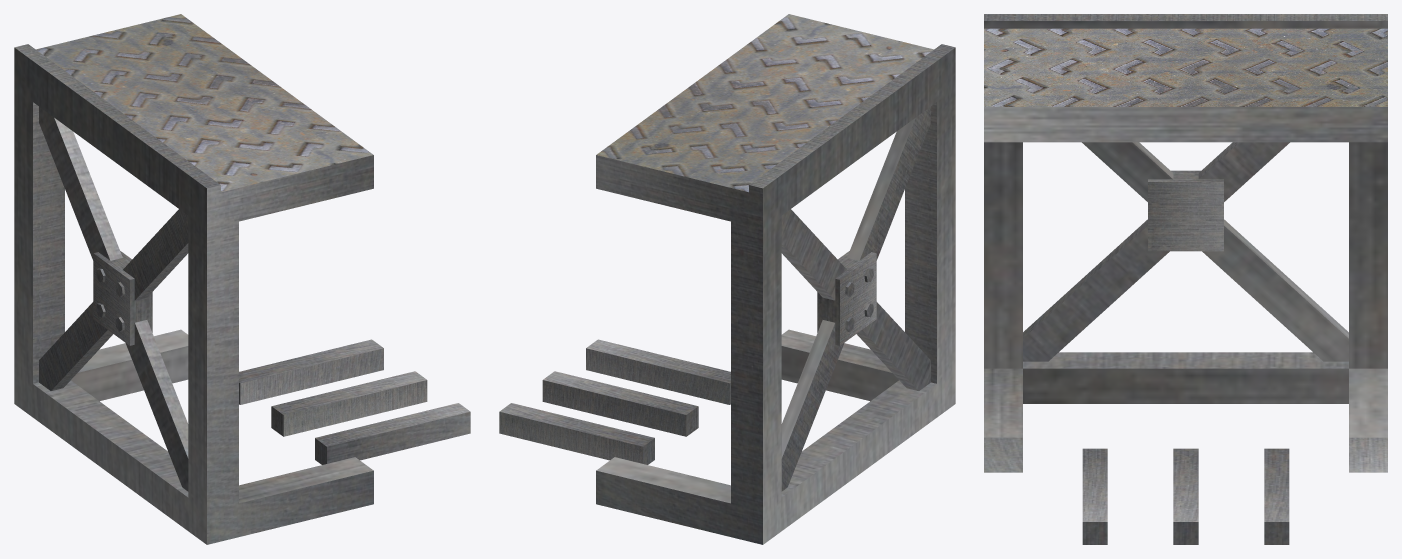
File: PLatform.glb
3 views of the same model, side by side, from view 1: azimuth 30°, elevation 25°; view 2: azimuth 150°, elevation 25°; view 3: azimuth 270°, elevation 25° (orthographic). The views are drawn at different scales.
Parts seen in each view (by area): view 1: Cube; view 2: Cube; view 3: Cube.
Boxes of the visible parts, x1,y1,x2,y2 form: Cube: [14, 14, 470, 544]; Cube: [499, 14, 955, 544]; Cube: [984, 14, 1387, 544].
Size of the model in its own units: 1.87 by 2.04 by 2.
Materials: 1 (1 with a texture image).
